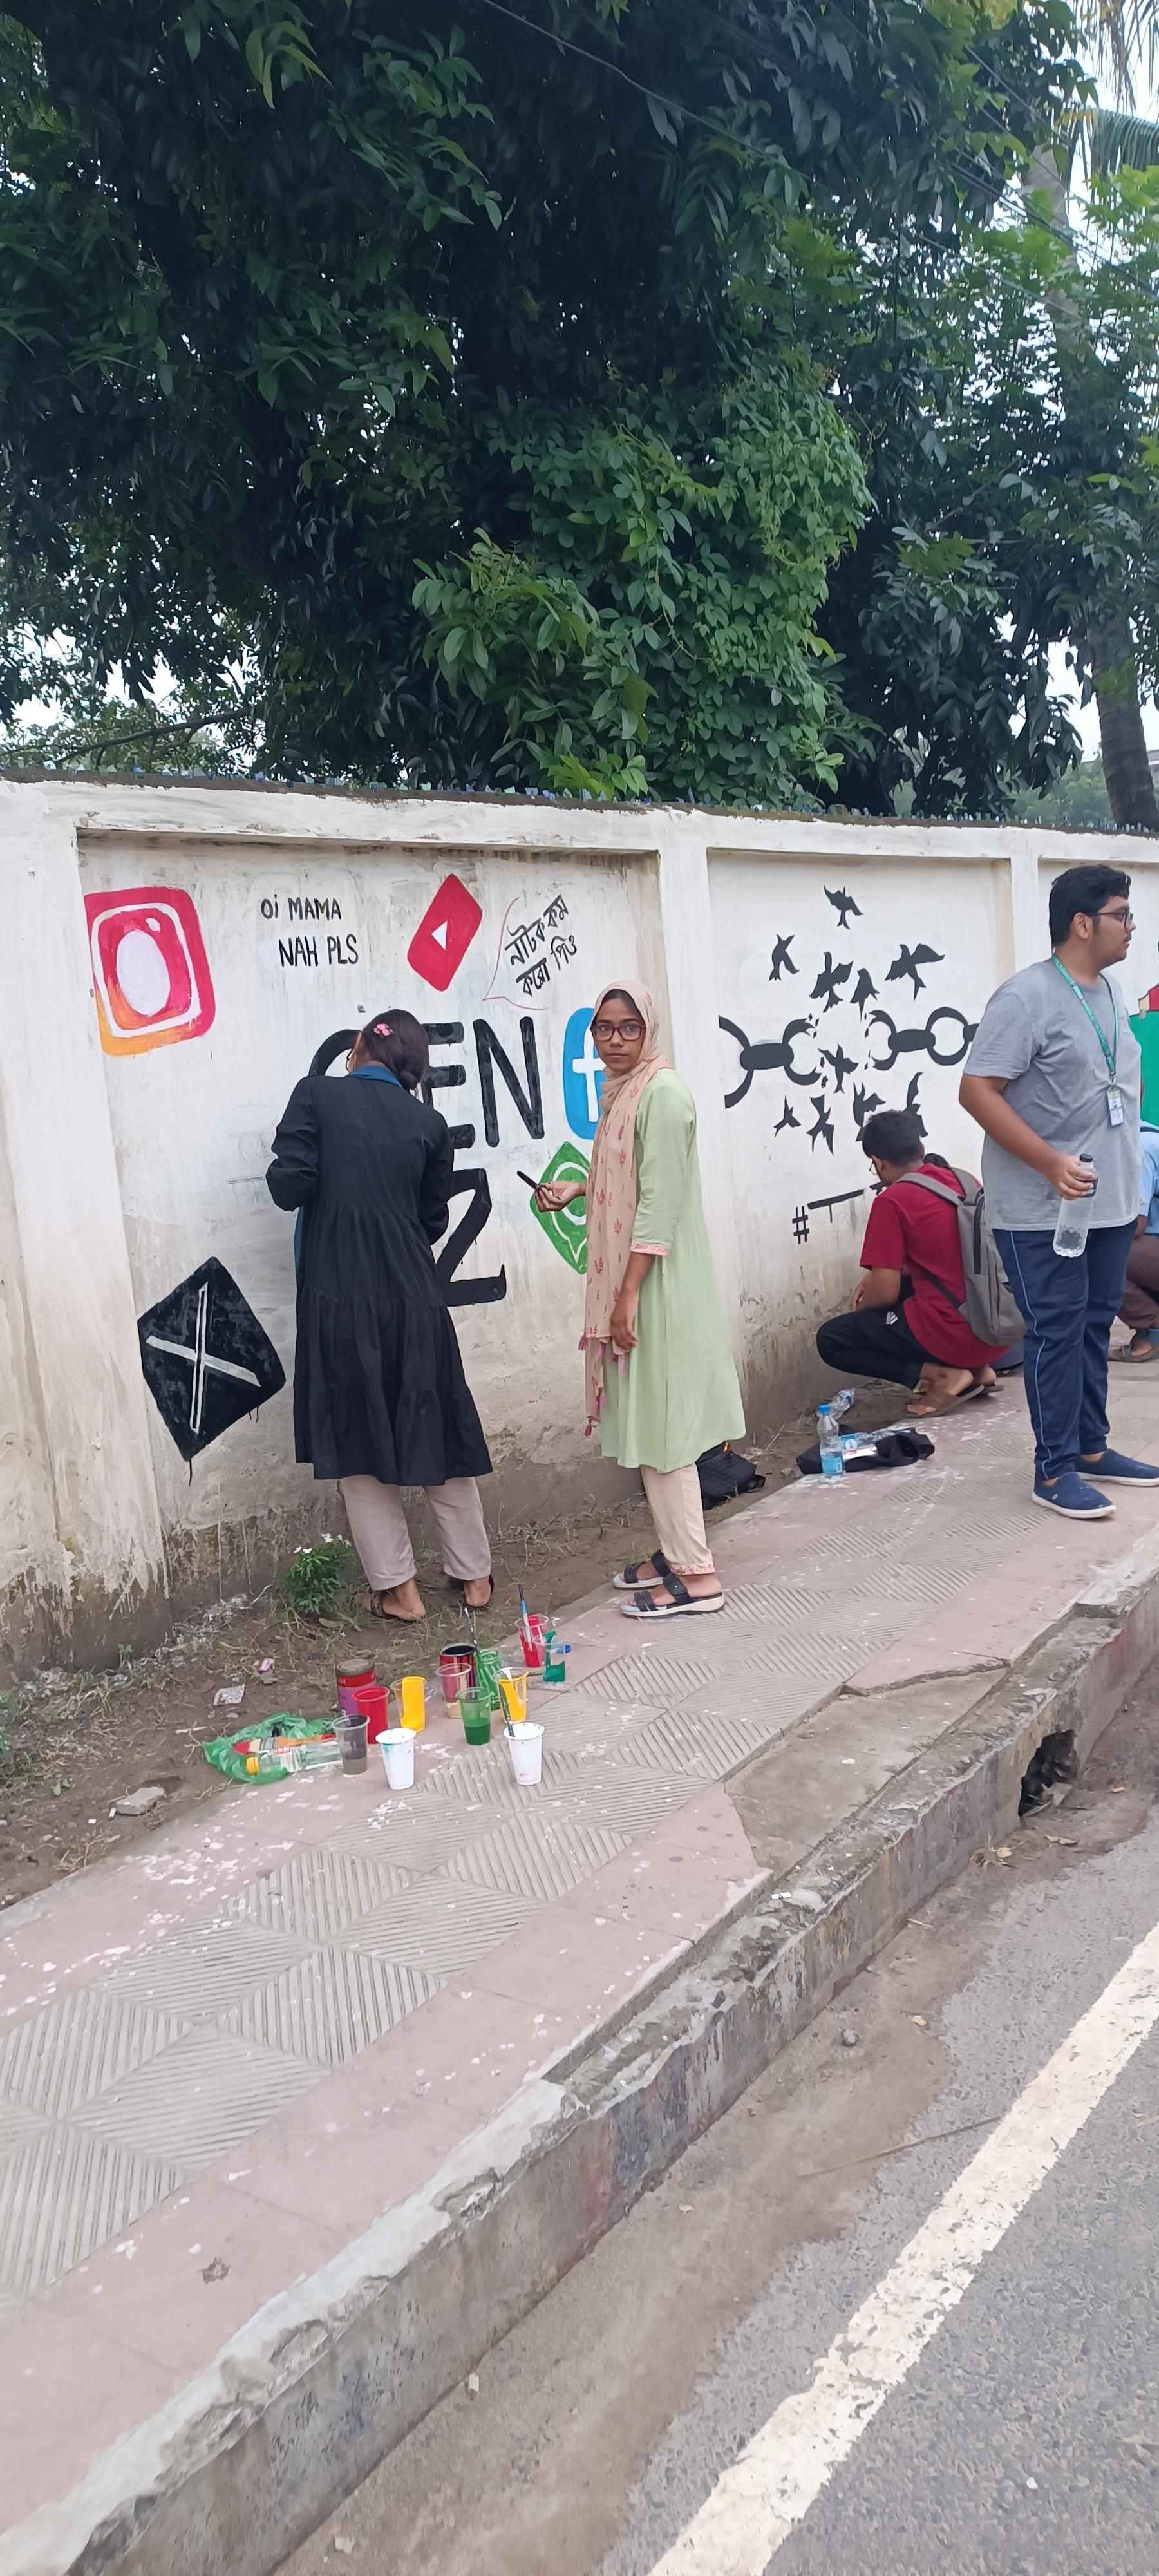Garbage-bin: (264, 1007, 496, 1623), (534, 977, 749, 1620), (959, 862, 1159, 1520), (814, 1109, 1005, 1416)
Pothole: (3, 1332, 1157, 2569)
